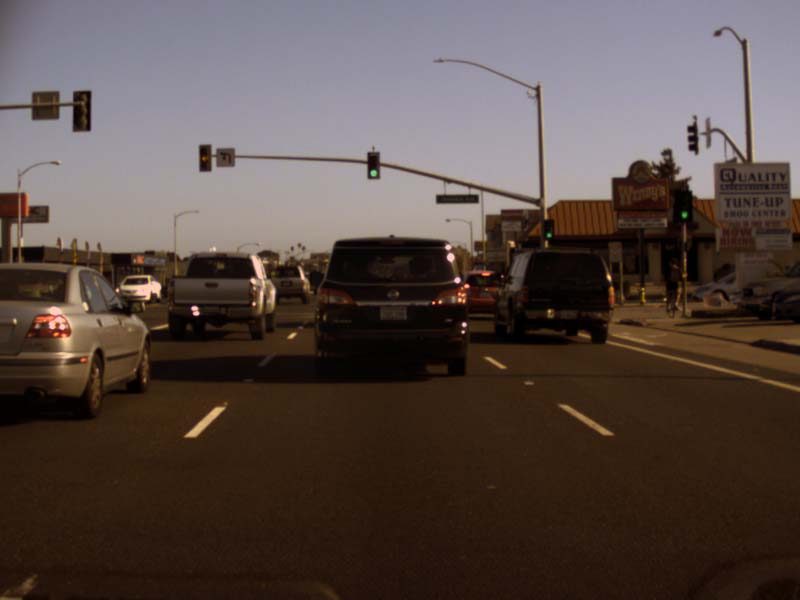Green: (675, 191, 691, 222), (367, 151, 379, 179), (543, 219, 553, 239)
Yellow: (198, 144, 211, 171)
